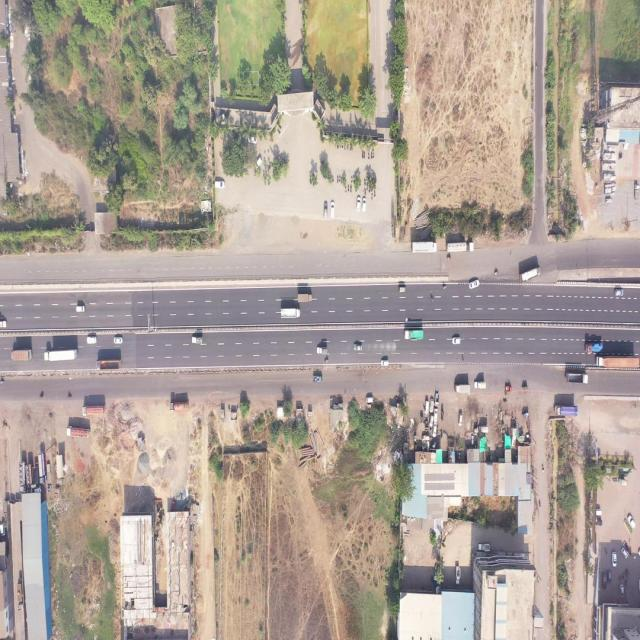3W: (521, 409, 530, 419), (399, 285, 406, 293), (505, 385, 512, 392), (522, 385, 529, 390)
Cars: (191, 334, 203, 346), (627, 514, 636, 530), (247, 134, 258, 146), (469, 277, 479, 290), (610, 552, 618, 568), (214, 180, 225, 190), (621, 547, 629, 560), (601, 572, 607, 589), (614, 287, 624, 297), (255, 155, 262, 169), (86, 336, 98, 344), (323, 201, 328, 219), (330, 200, 335, 218), (478, 351, 488, 360), (619, 584, 625, 599), (113, 335, 123, 344), (458, 412, 463, 428), (362, 197, 367, 212), (429, 396, 434, 411), (424, 399, 429, 414), (452, 337, 461, 345), (353, 343, 363, 350), (356, 196, 360, 212), (76, 305, 85, 312), (434, 407, 437, 423), (429, 414, 433, 426), (381, 359, 389, 365), (366, 396, 372, 404)
LCV: (477, 542, 491, 553), (455, 564, 461, 587), (317, 346, 328, 356), (474, 380, 486, 389), (313, 374, 322, 384)
M2W: (538, 499, 542, 508), (442, 284, 447, 291), (446, 255, 451, 261), (325, 357, 329, 364), (351, 174, 354, 183), (363, 178, 366, 187), (494, 270, 499, 275), (346, 143, 349, 150), (336, 174, 338, 183), (348, 183, 350, 192), (371, 191, 373, 200), (364, 150, 366, 159), (372, 151, 374, 160), (332, 174, 334, 183), (265, 170, 267, 179), (368, 151, 370, 160), (542, 465, 544, 474), (341, 142, 343, 150), (340, 176, 342, 184), (350, 185, 352, 193), (344, 186, 346, 193)
MAV: (594, 353, 640, 369), (43, 348, 78, 361), (445, 241, 475, 253)
Truck: (518, 265, 540, 285), (65, 424, 90, 439), (566, 369, 588, 385), (411, 241, 438, 254), (95, 358, 122, 371), (553, 404, 578, 417), (10, 348, 32, 362), (82, 404, 106, 416), (169, 400, 189, 413), (404, 329, 424, 341), (584, 341, 604, 352), (280, 308, 300, 318), (454, 384, 471, 394), (297, 293, 313, 303)
